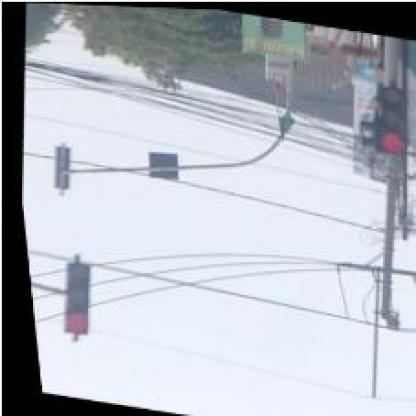red: (50, 258, 89, 336), (368, 79, 409, 152)
